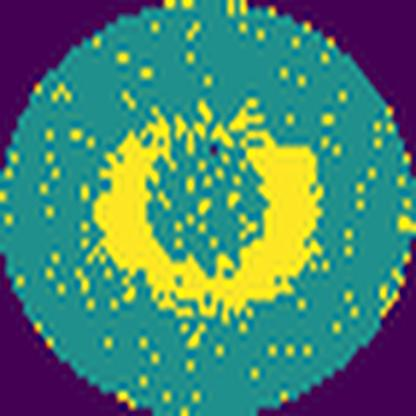Donut: (89, 88, 327, 329)
